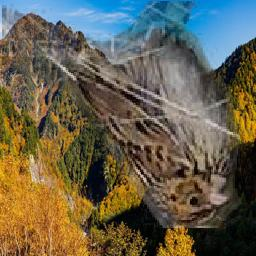Sparrow: (2, 2, 242, 229)
